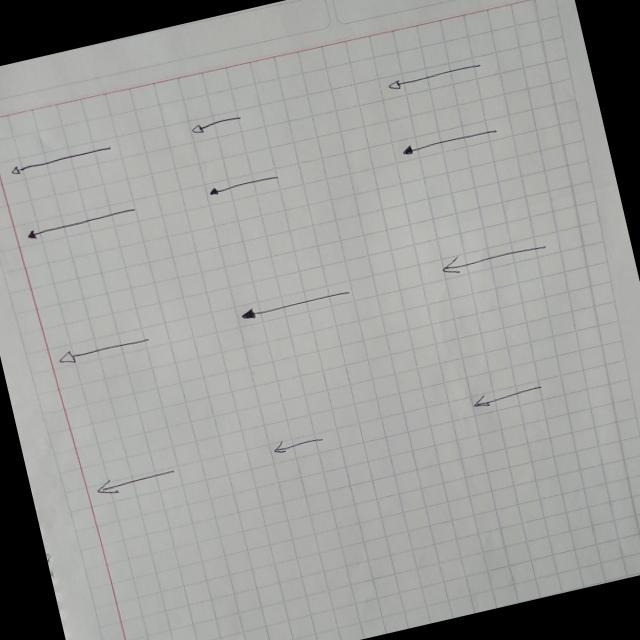arrow_line_left: (440, 234, 550, 280), (237, 283, 351, 324), (22, 204, 140, 243), (5, 140, 114, 179), (53, 328, 153, 369), (398, 122, 499, 160), (90, 460, 180, 502), (385, 58, 484, 94), (469, 378, 545, 413), (202, 169, 282, 201), (269, 429, 327, 458), (188, 110, 244, 138)
